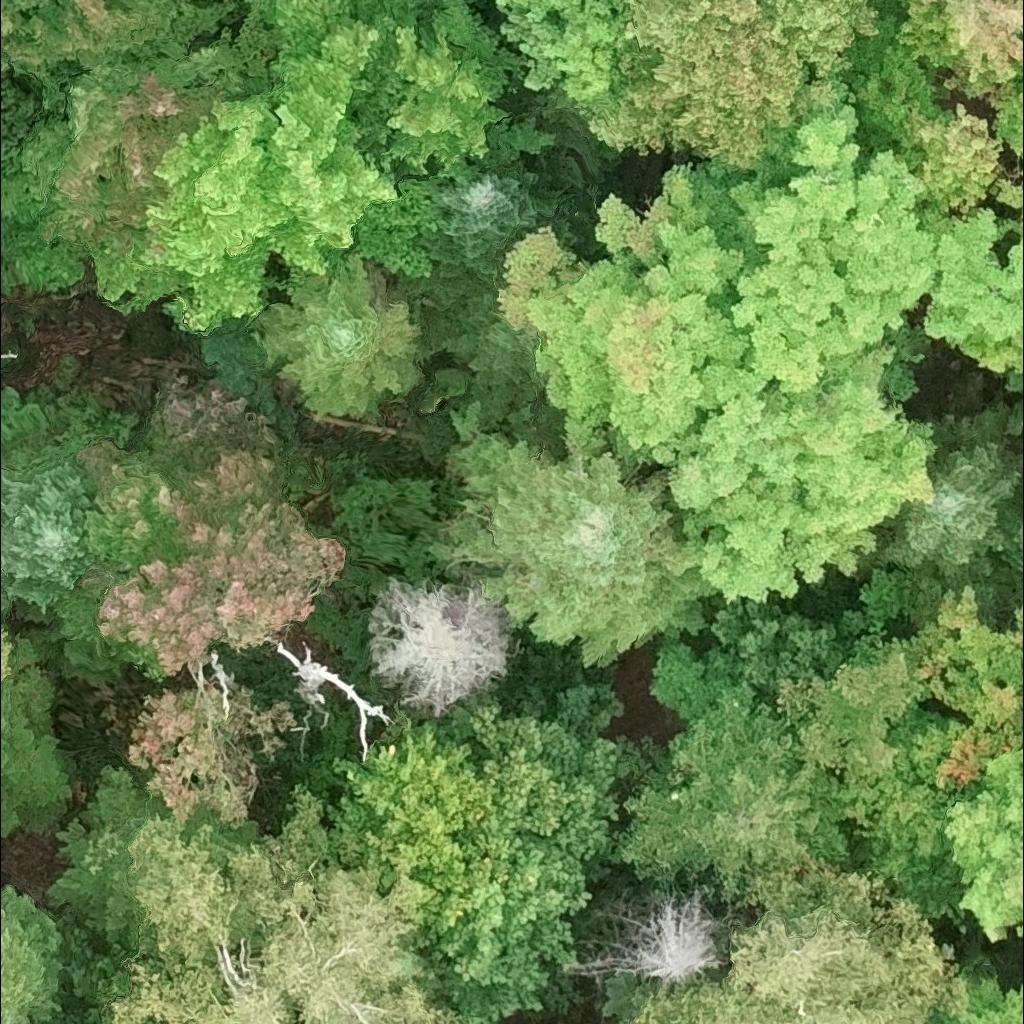crown: (494, 98, 940, 606), (49, 366, 350, 683), (103, 783, 472, 1023), (0, 0, 263, 317), (425, 398, 708, 667), (146, 82, 408, 344), (626, 859, 969, 1023), (564, 0, 878, 169), (621, 723, 858, 901), (842, 0, 1023, 226), (857, 401, 1023, 623), (459, 680, 631, 875), (416, 834, 594, 1021), (774, 621, 970, 787), (399, 161, 600, 319), (325, 718, 504, 895), (350, 0, 530, 176), (252, 253, 430, 424), (834, 707, 971, 929), (903, 574, 1023, 793), (122, 684, 296, 829), (364, 575, 510, 718), (917, 206, 1023, 397), (439, 293, 562, 451), (557, 887, 731, 993), (263, 0, 433, 104), (942, 744, 1023, 945), (0, 631, 78, 839), (0, 457, 96, 613), (269, 641, 393, 759), (492, 0, 630, 104), (0, 882, 69, 1023), (208, 0, 274, 93), (928, 971, 1023, 1023), (995, 66, 1023, 179), (0, 627, 13, 699), (0, 0, 20, 43)
